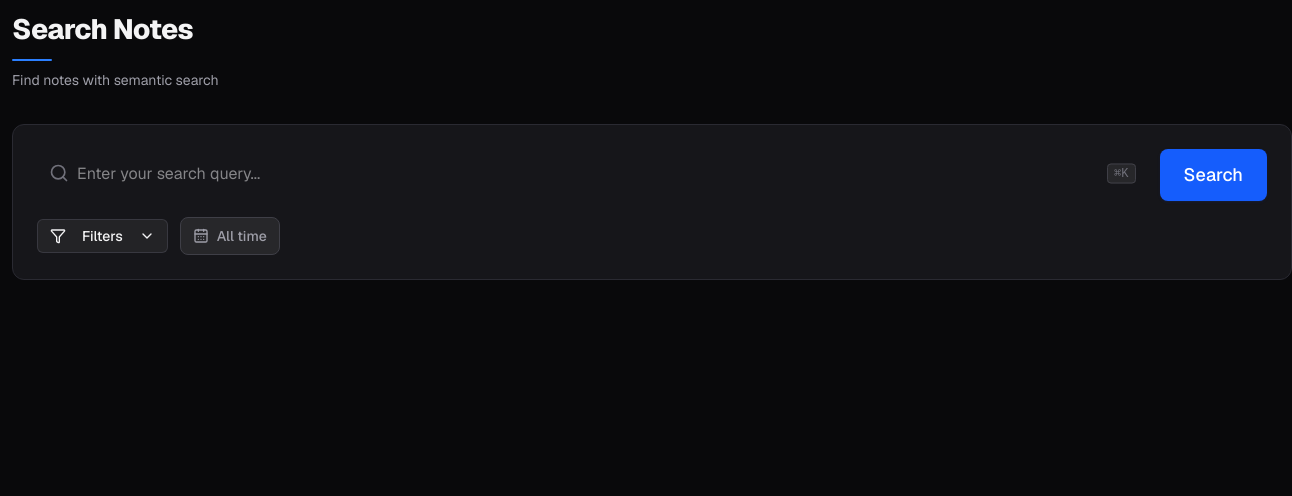
SearchPage › shows filter panel when filter toggle is clicked
Click the button with test id "filter-toggle": click(102, 236) [37,219,168,253]
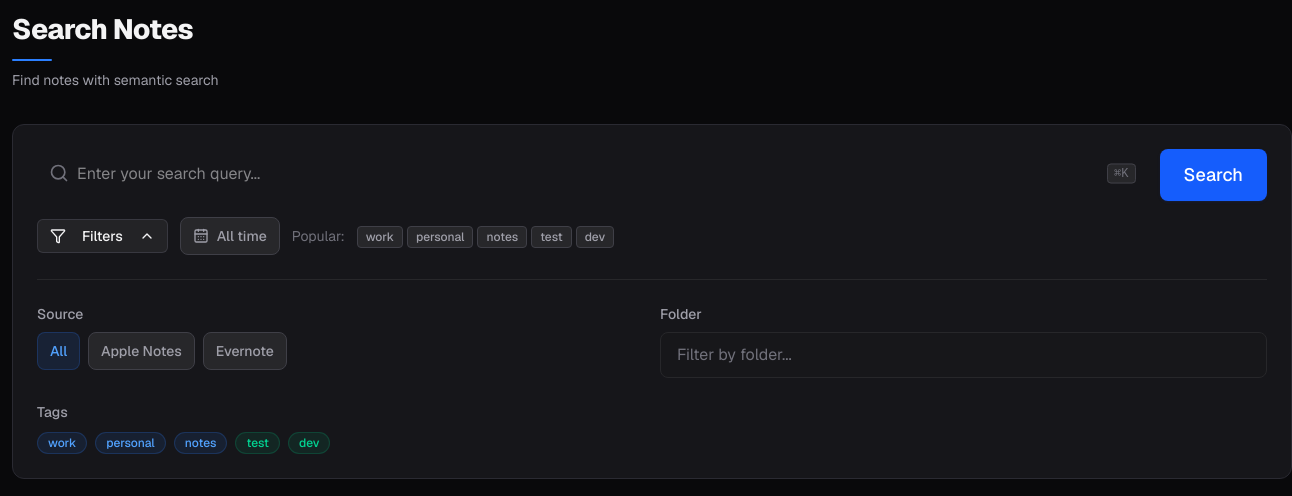
Now the element with test id "filter-panel" is shown, box [37,255,1267,454]
